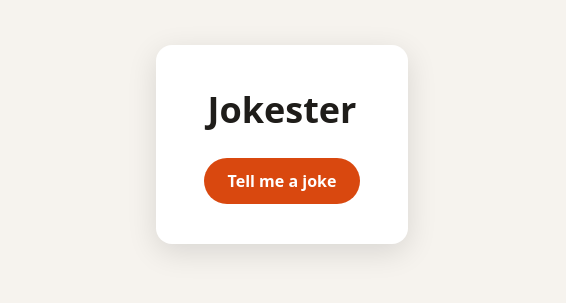
Test case: failure after a joke replaces it
This screenshot has width=566, height=303.
Click the button "Tell me a joke". click: (282, 180)
box: [204,158,360,204]
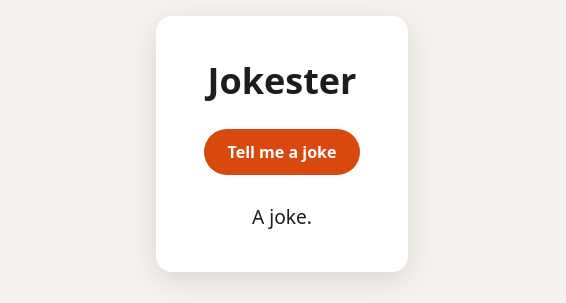
Check: the text "A joke." is shown, box [252,203,312,230]
Click the button "Tell me a joke". click: (282, 152)
box: [204,129,360,175]
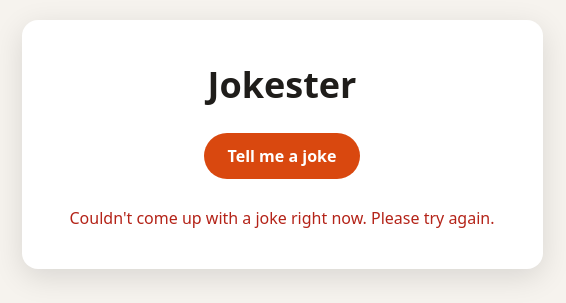
Check: the text "A joke." is not shown
Check: the message reads "Couldn't come up with a joke right now. Please try again.", box [70,206,494,228]
